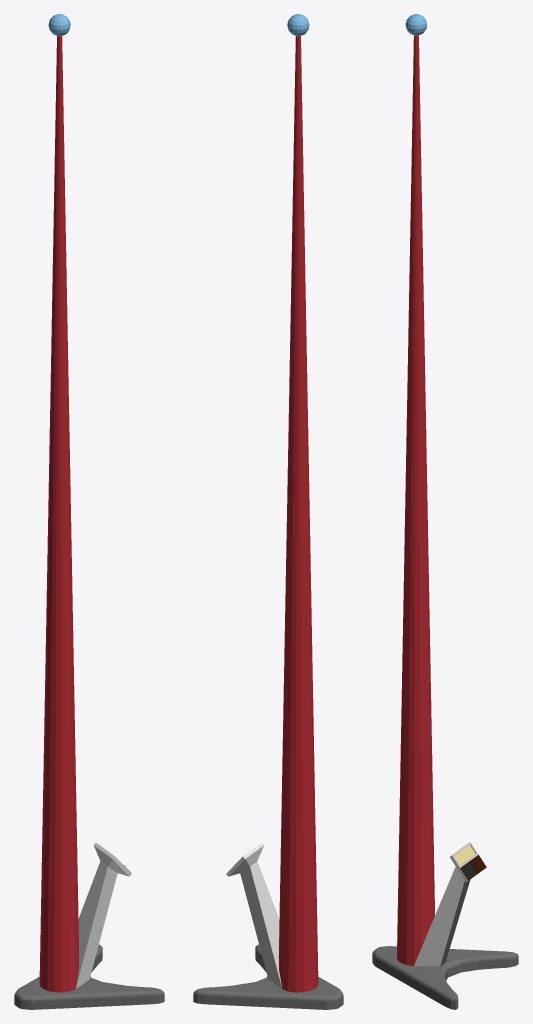
The model's file is OrderStation.fbx.
3 renders of one model, left to right at view 1: azimuth 30°, elevation 25°; view 2: azimuth 150°, elevation 25°; view 3: azimuth 330°, elevation 25°, orthographic. The views are drawn at different scales.
Parts seen in each view (by area): view 1: Station; view 2: Station; view 3: Station.
Boxes of the visible parts, <box> form: Station: <box>14,14,164,1009</box>; Station: <box>193,14,343,1009</box>; Station: <box>372,14,518,1009</box>.
Bounding box in the file's own units: 119 × 967 × 117.
